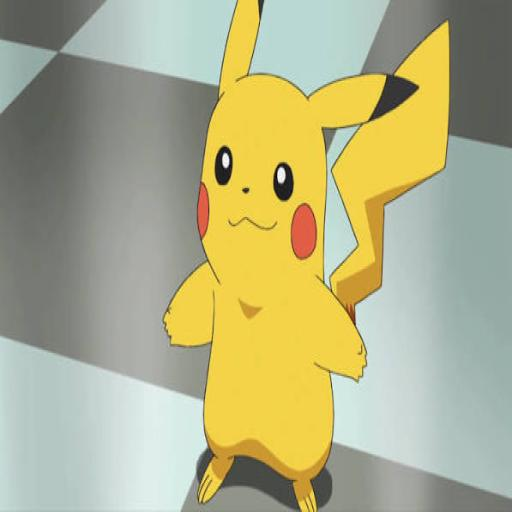Pikachu: (163, 0, 450, 512)
